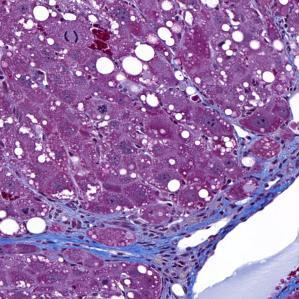fibrosis: (73, 208, 210, 270)
